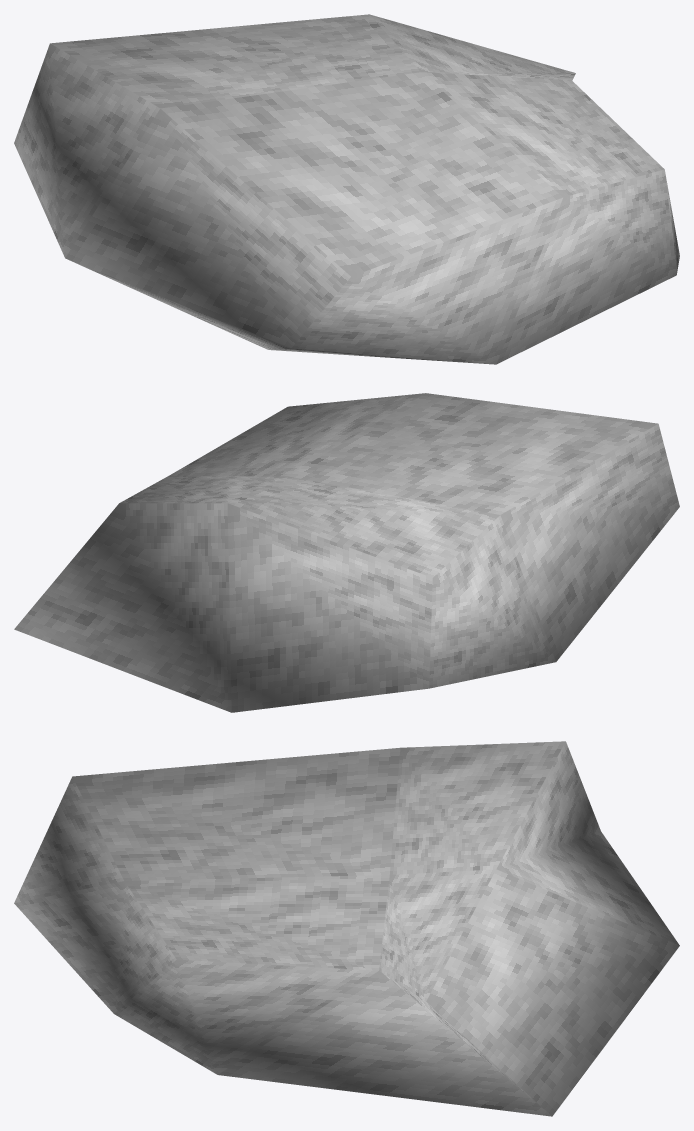
File: rock_8.glb
3 views of the same model, one above another, from view 1: azimuth 30°, elevation 25°; view 2: azimuth 150°, elevation 25°; view 3: azimuth 270°, elevation 25° (orthographic). The views are drawn at different scales.
Parts seen in each view (by area): view 1: rock8-col; view 2: rock8-col; view 3: rock8-col.
Part boxes in pixels (bbox=[...]): rock8-col: bbox=[14, 14, 679, 364]; rock8-col: bbox=[14, 393, 679, 712]; rock8-col: bbox=[14, 741, 679, 1116].
Size of the model in its own units: 1.24 by 0.3954 by 1.46.
1 material, 1 textured.
